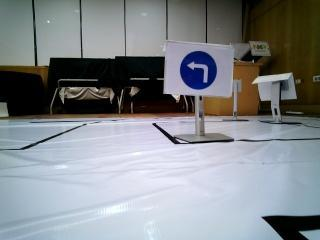left: (171, 44, 232, 97)
